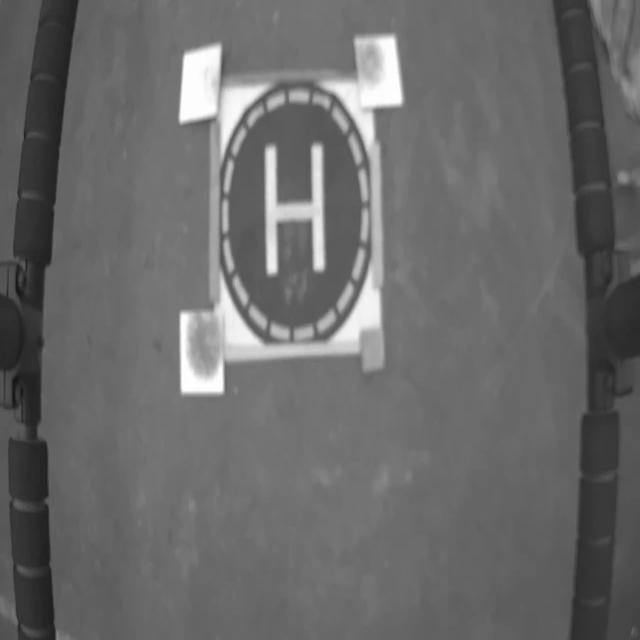Helipad: (265, 143, 325, 276)
